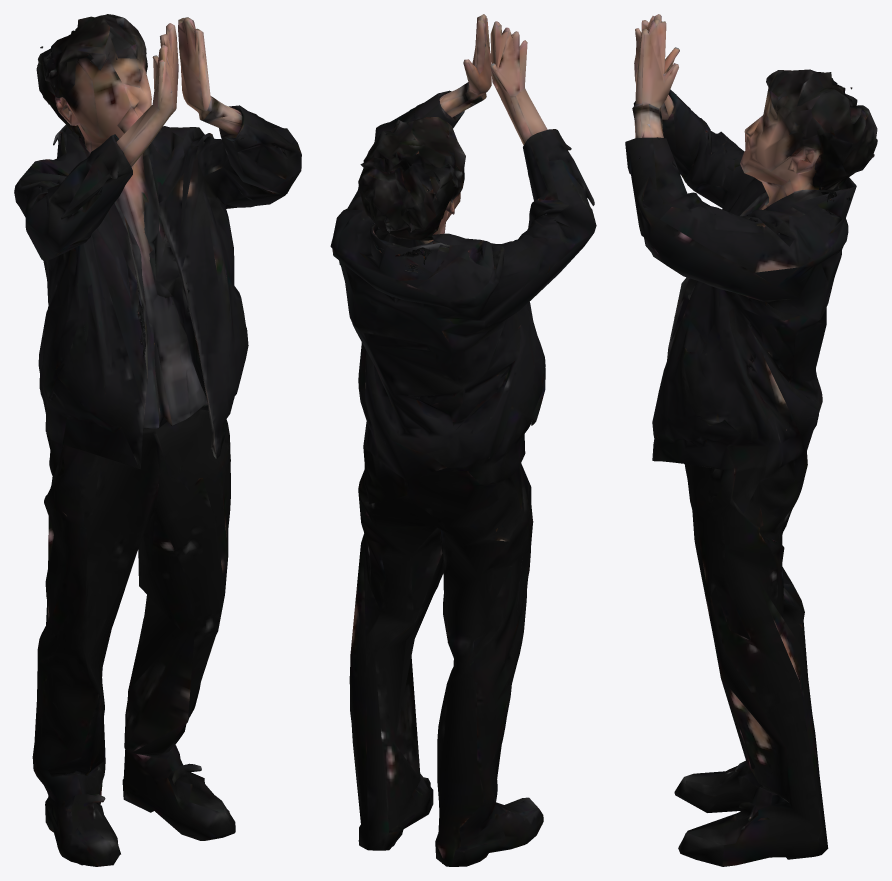
The model's file is fan-side-s1-lo.glb.
3 renders of one model, left to right at view 1: azimuth 30°, elevation 25°; view 2: azimuth 150°, elevation 25°; view 3: azimuth 270°, elevation 25°, orthographic. The views are drawn at different scales.
Visible parts, largest first — view 1: geometry_0; view 2: geometry_0; view 3: geometry_0.
Part boxes in pixels (<box>): geometry_0: <box>14,14,301,866</box>; geometry_0: <box>330,14,596,866</box>; geometry_0: <box>625,14,877,866</box>.
Bounding box in the file's own units: 0.3046 × 1 × 0.2814.
1 material, 1 textured.
